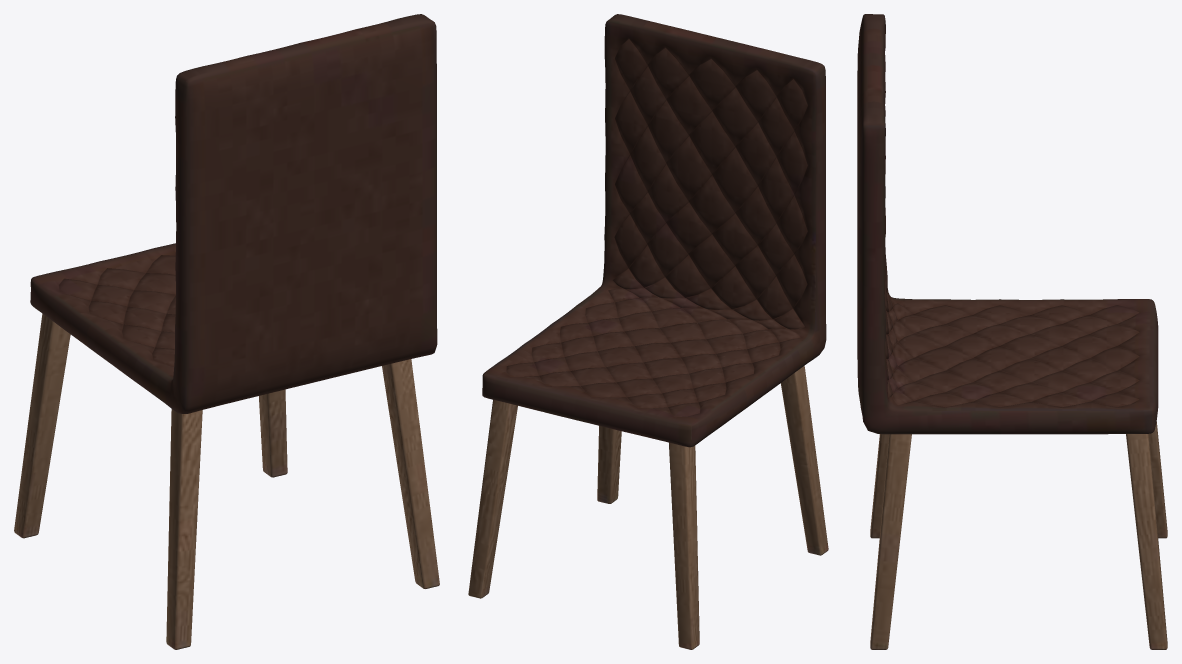
File: Chair17.glb
The picture shows the model from 3 angles, left to right: view 1: azimuth 30°, elevation 25°; view 2: azimuth 150°, elevation 25°; view 3: azimuth 270°, elevation 25°; orthographic projection. The views are drawn at different scales.
Parts seen in each view (by area): view 1: Chair17_model; view 2: Chair17_model; view 3: Chair17_model.
Boxes of the visible parts, x1,y1,x2,y2 form: Chair17_model: (14, 14, 439, 649); Chair17_model: (468, 14, 828, 649); Chair17_model: (857, 14, 1167, 649).
Bounding box in the file's own units: 0.9992 × 2.06 × 1.1.
Materials: 1 (1 with a texture image).
